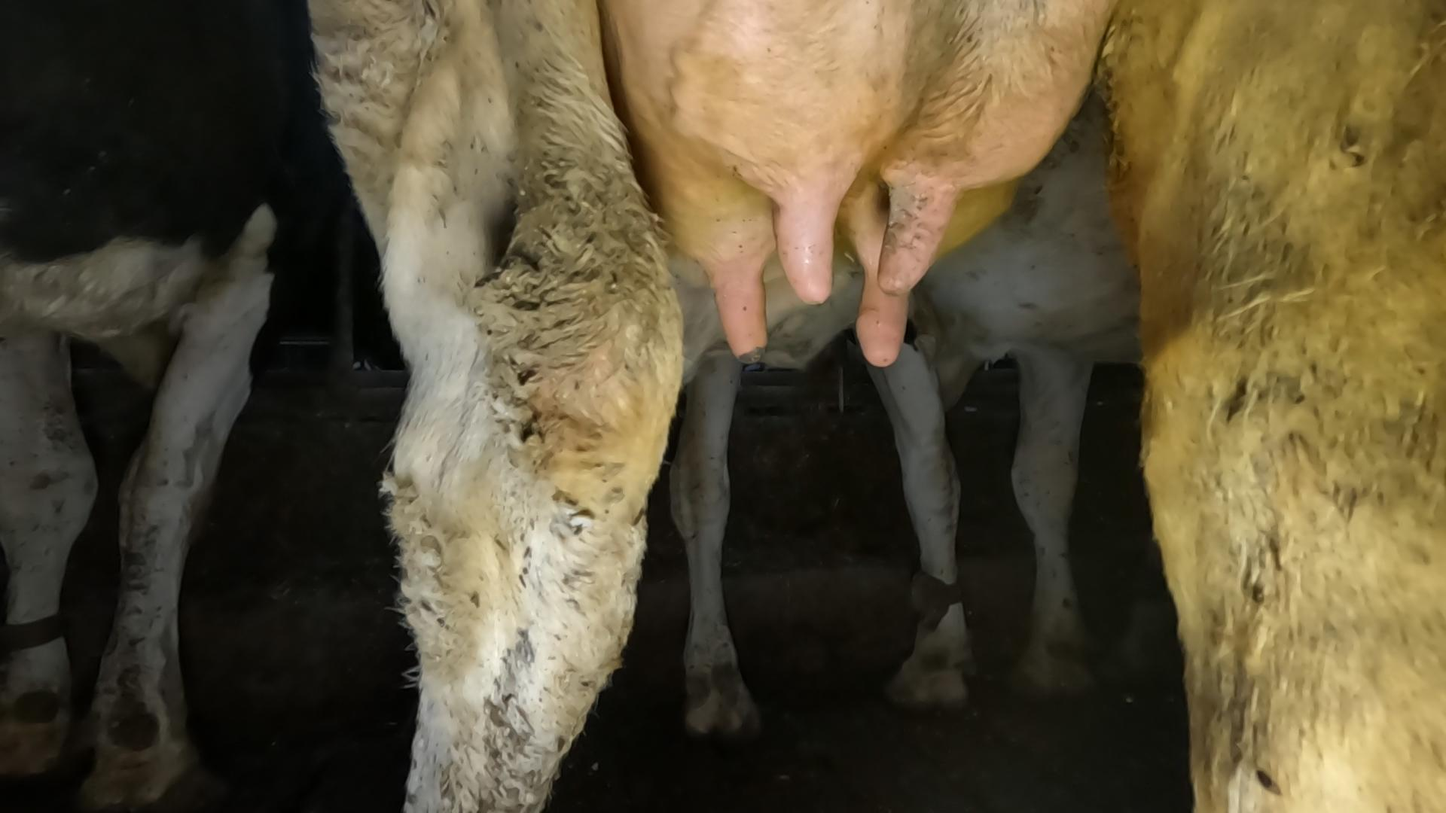Zitze: (871, 176, 969, 292), (769, 165, 838, 312), (847, 218, 912, 369), (712, 252, 779, 371)
